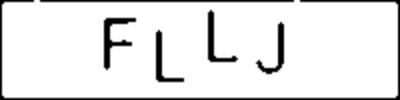F: (96, 14, 141, 73)
J: (251, 17, 291, 78)
L: (202, 5, 243, 65), (151, 27, 192, 86)
